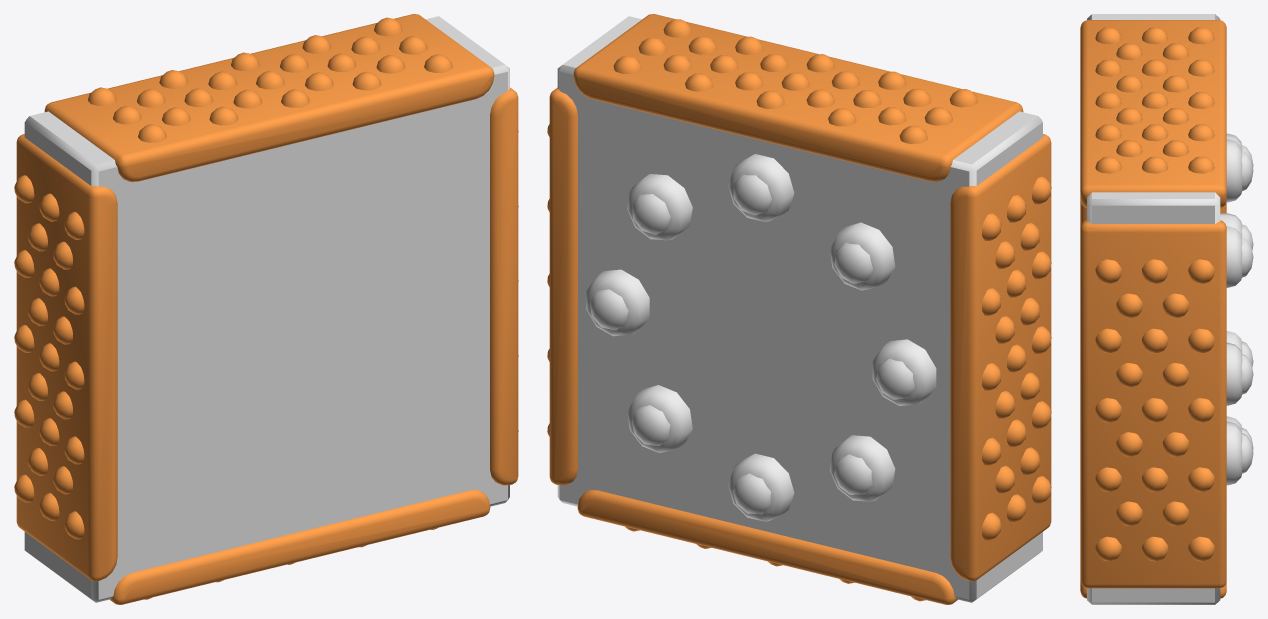
File: RotatingPlatform_square.fbx
3 views of the same model, side by side, from view 1: azimuth 30°, elevation 25°; view 2: azimuth 150°, elevation 25°; view 3: azimuth 270°, elevation 25° (orthographic). The views are drawn at different scales.
Parts seen in each view (by area): view 1: metal, platforms.003; view 2: metal, platforms.003, Lights; view 3: platforms.003, metal, Lights.
Part boxes in pixels (x1,y1,x2,y2): metal: (24, 16, 509, 602); platforms.003: (14, 14, 518, 604); metal: (557, 16, 1042, 602); platforms.003: (547, 14, 1051, 604); Lights: (589, 174, 914, 514); platforms.003: (1080, 20, 1226, 598); metal: (1087, 14, 1242, 604); Lights: (1242, 145, 1253, 473).
Bounding box in the file's own units: 188 × 188 × 67.58.
